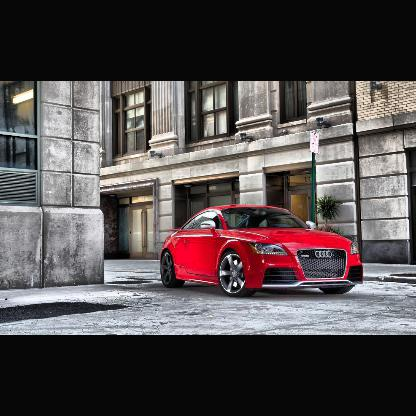Audi TT RS Coupe 2012: (162, 204, 365, 296)
